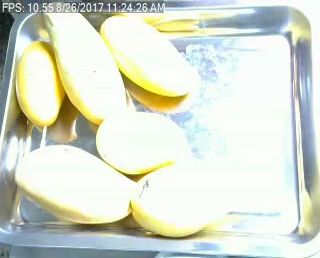Mango: (42, 1, 128, 125), (15, 143, 138, 223), (98, 12, 200, 97), (129, 167, 230, 238), (94, 111, 188, 174), (14, 40, 64, 126)
